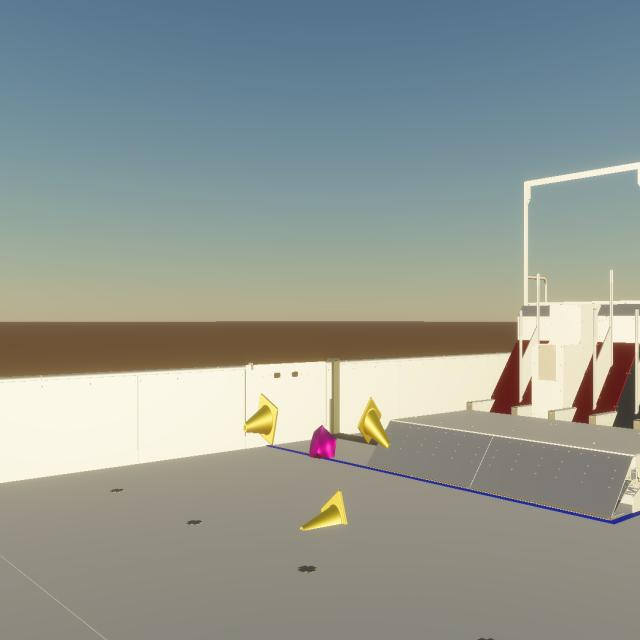frc_cone: (300, 489, 348, 531), (243, 394, 278, 446), (357, 397, 391, 449)
frc_cube: (308, 425, 336, 459)
